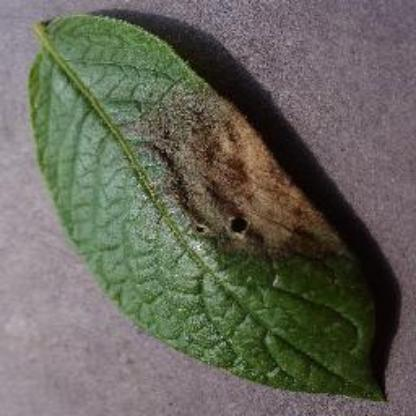Late-Blight: (21, 6, 397, 404)
